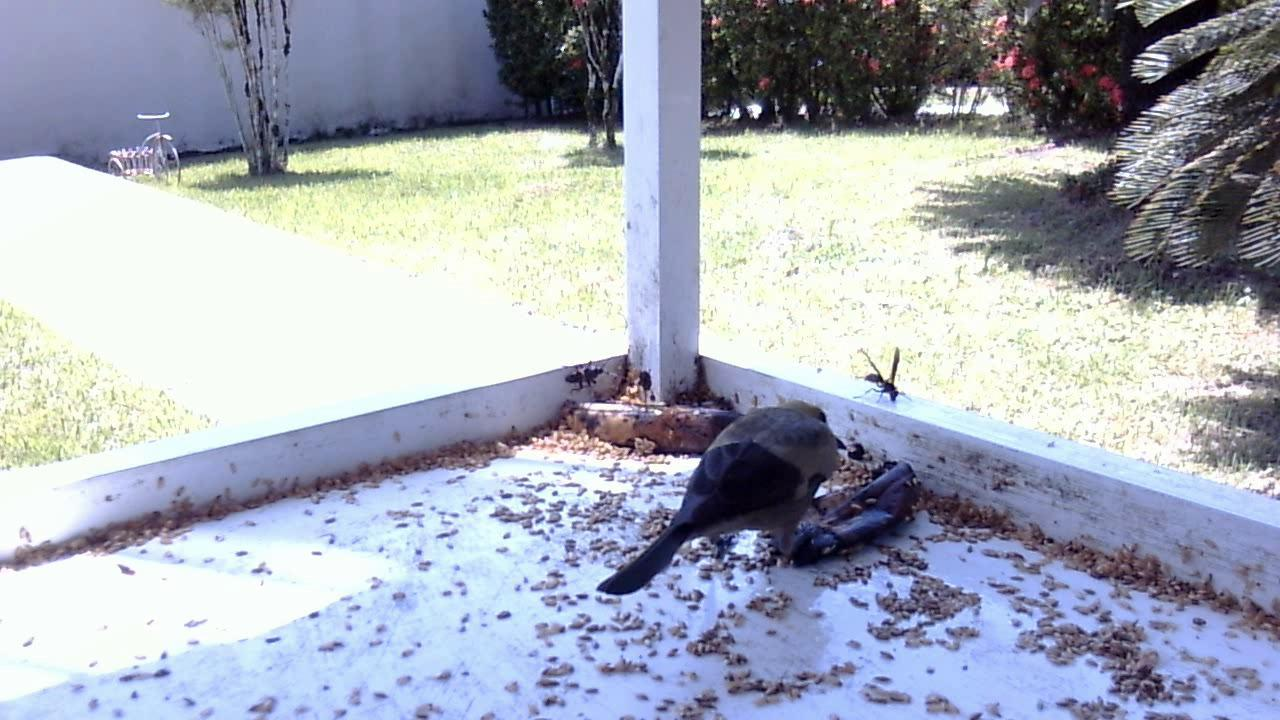sanhaco_do_coqueiro: (586, 395, 862, 608)
